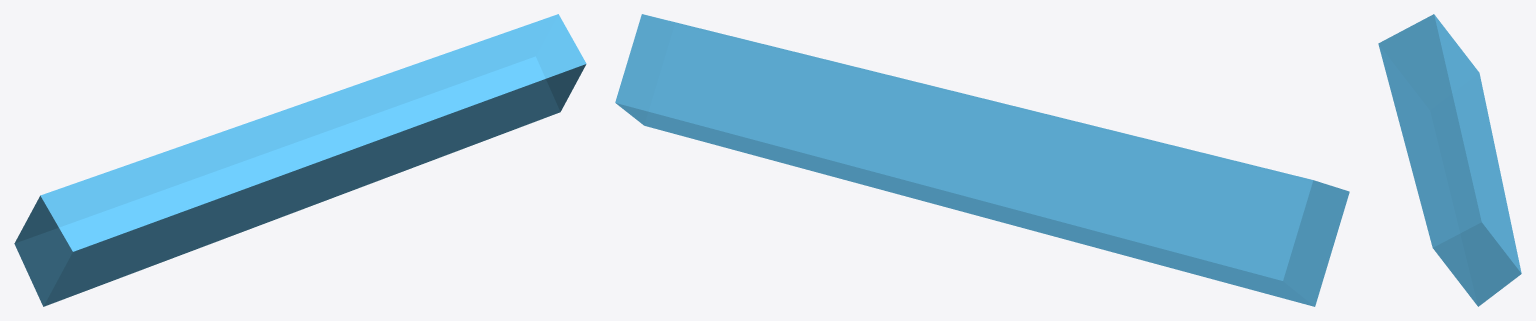
File: Event_421364160_HErechit_16.fbx
3 renders of one model, left to right at view 1: azimuth 30°, elevation 25°; view 2: azimuth 150°, elevation 25°; view 3: azimuth 270°, elevation 25°, orthographic. The views are drawn at different scales.
Visible parts, largest first — view 1: Model; view 2: Model; view 3: Model.
Part boxes in pixels (x1=…): Model: x1=14, y1=14, x2=586, y2=306; Model: x1=615, y1=14, x2=1349, y2=306; Model: x1=1378, y1=14, x2=1521, y2=306.
Size of the model in its own units: 1.4 by 0.3402 by 0.3645.
